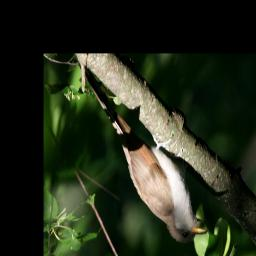Cuckoo: (79, 63, 208, 244)
